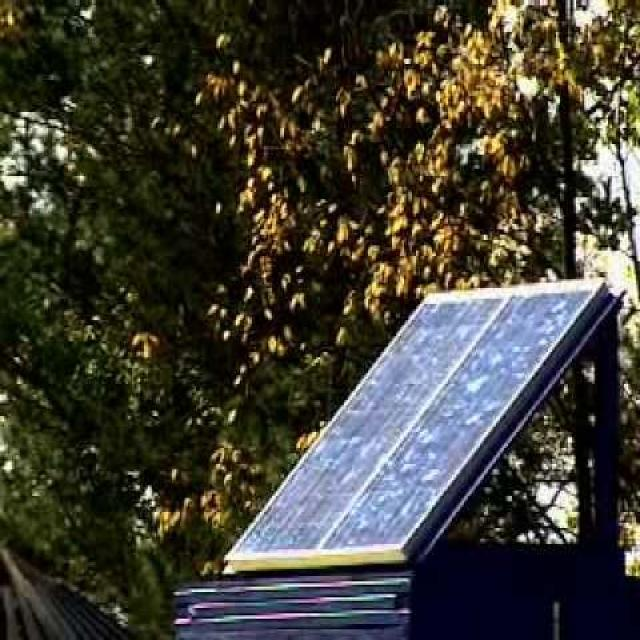dust-solar-panel: (224, 287, 600, 558)
